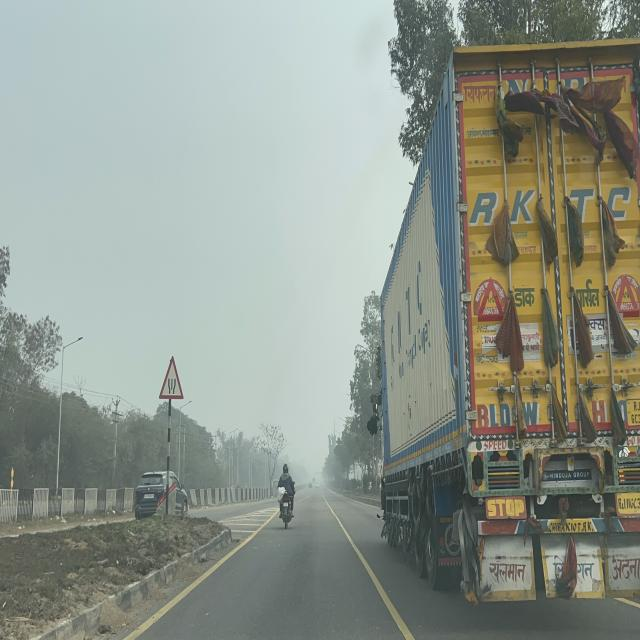ROAD_WIDENS_AHEAD: (159, 355, 184, 400)
